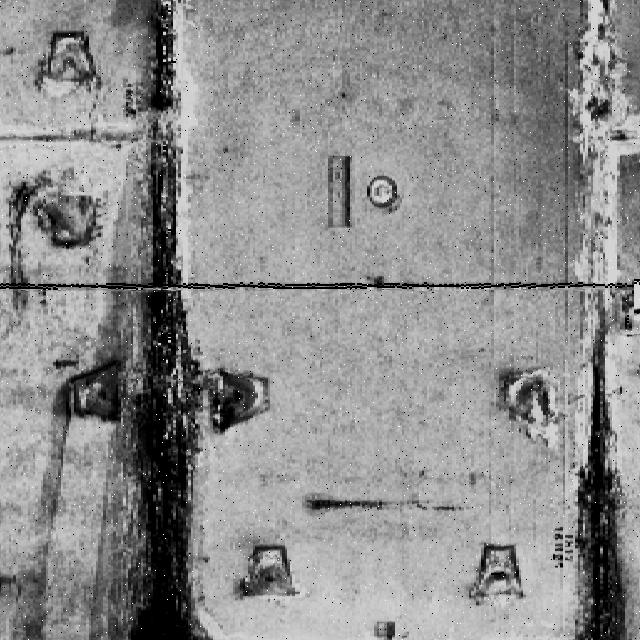leakage: (94, 2, 216, 639), (574, 7, 639, 640)
